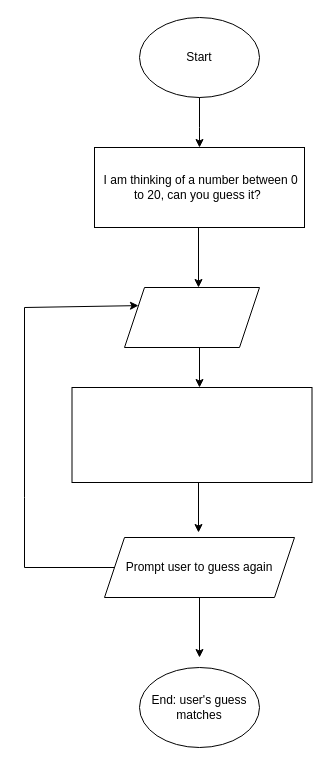
This 330x765 diagram has some shape labels left out. Here are the shapes that lost their labels. From the top down, the box of each, then its label:
(124, 286, 260, 348): Get user's input
(71, 386, 312, 482): Evaluate number: let user know if number is lower or higher than number
